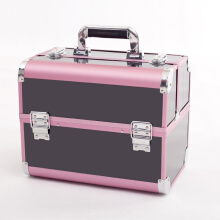shoutibox: (18, 28, 192, 196)
